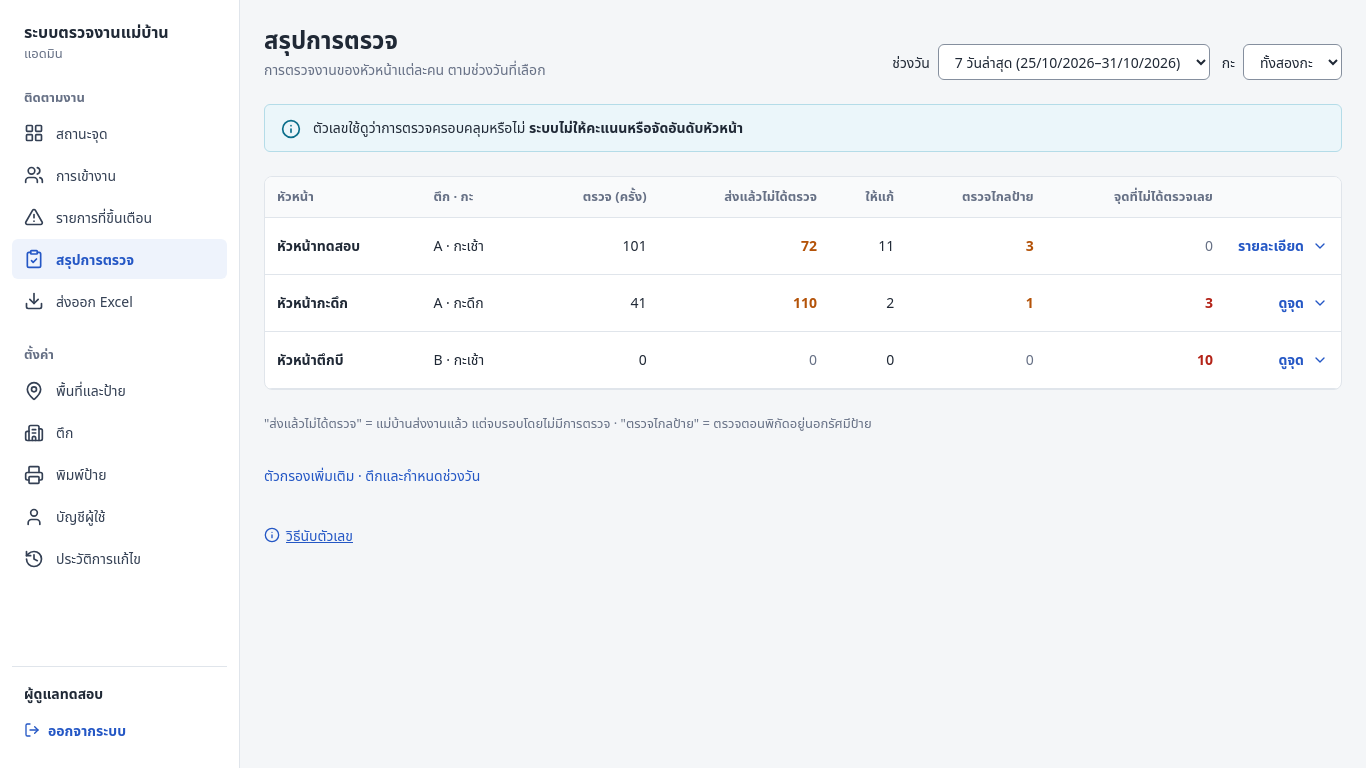
InspectionSummaryPage (D7, facility-0048 rule 5) › the compact preset select applies dates and keeps numeric ranges
The image size is (1366, 768).
Expected: the column heading "หัวหน้ากะดึก" is shown, [265,274,422,331]
Select "วันนี้" in the dropdown labelled "ช่วงวัน" at (1074, 62), box [938,44,1210,80]
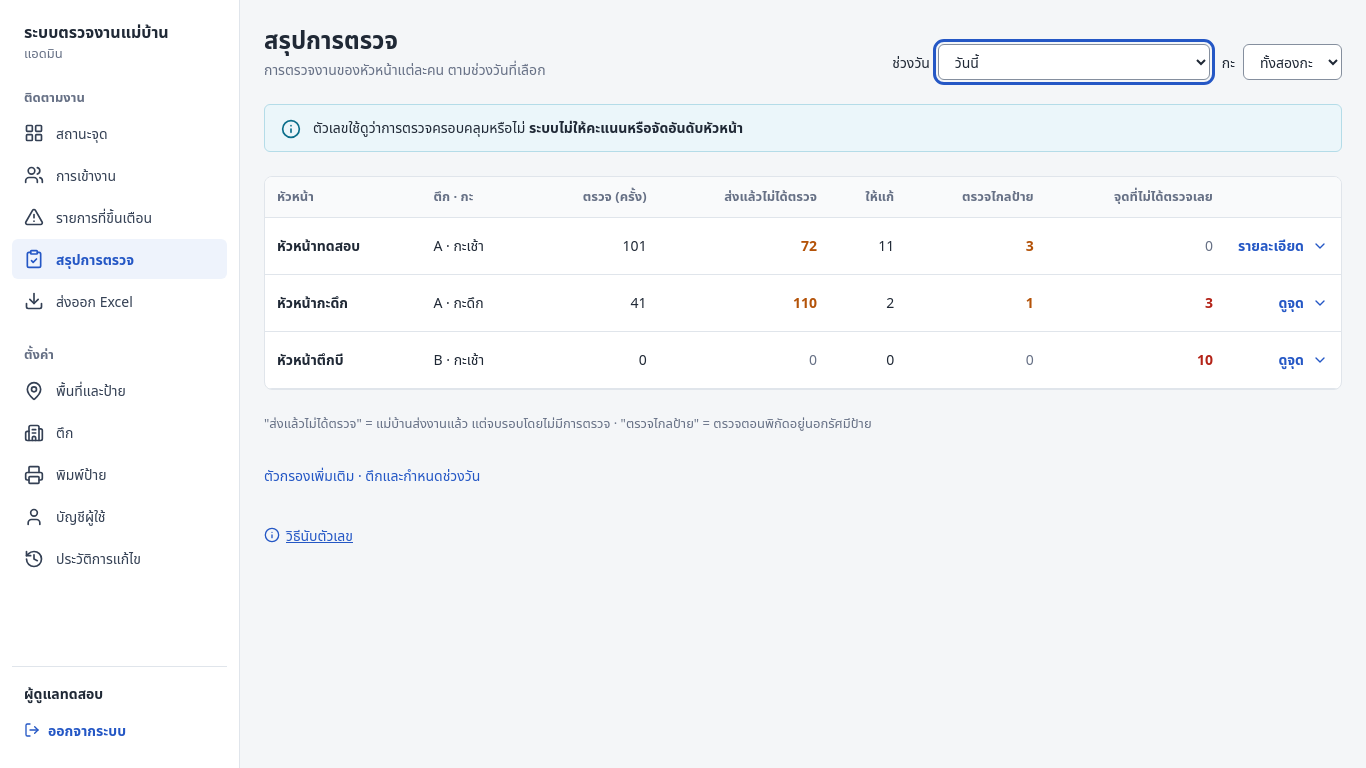
Select "เดือนนี้" in the dropdown labelled "ช่วงวัน" at (1074, 62), box [938,44,1210,80]
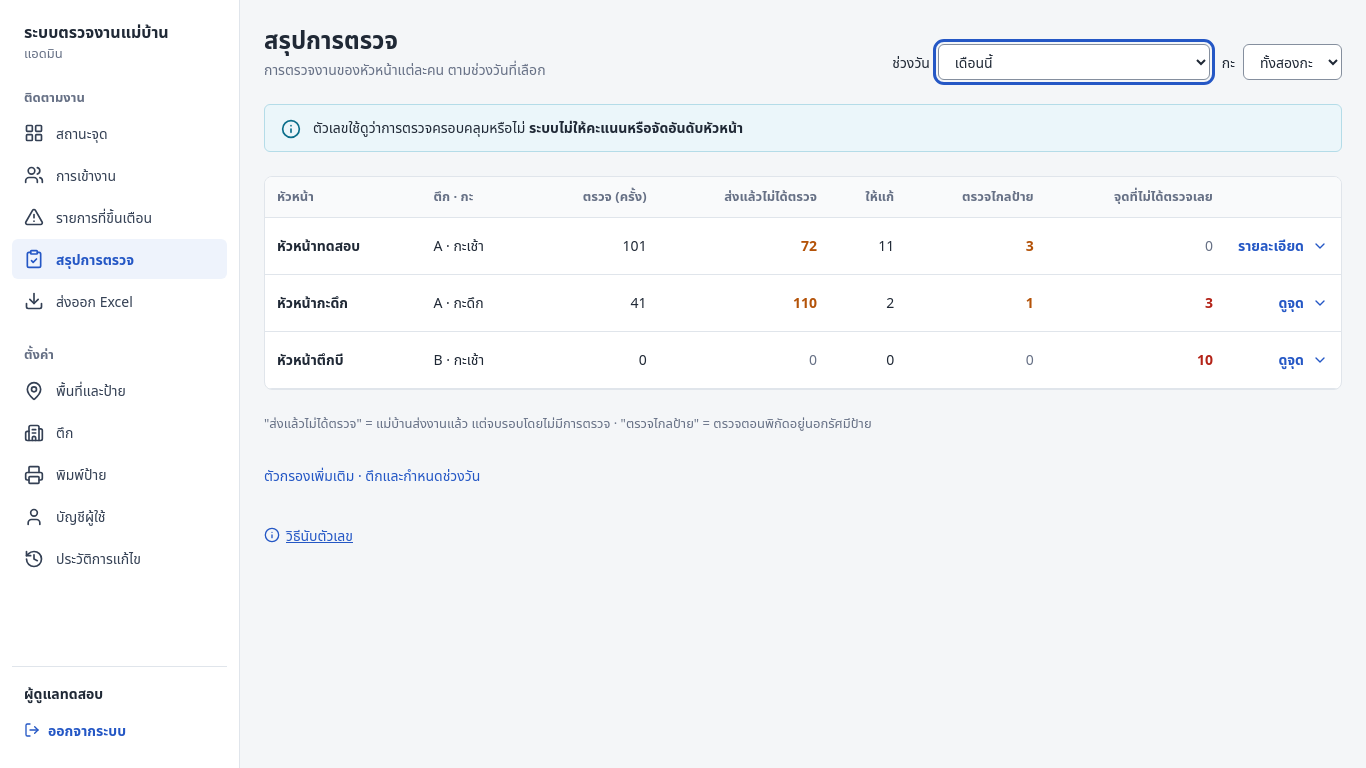
Select "กำหนดเอง" in the dropdown labelled "ช่วงวัน" at (1074, 62), box [938,44,1210,80]
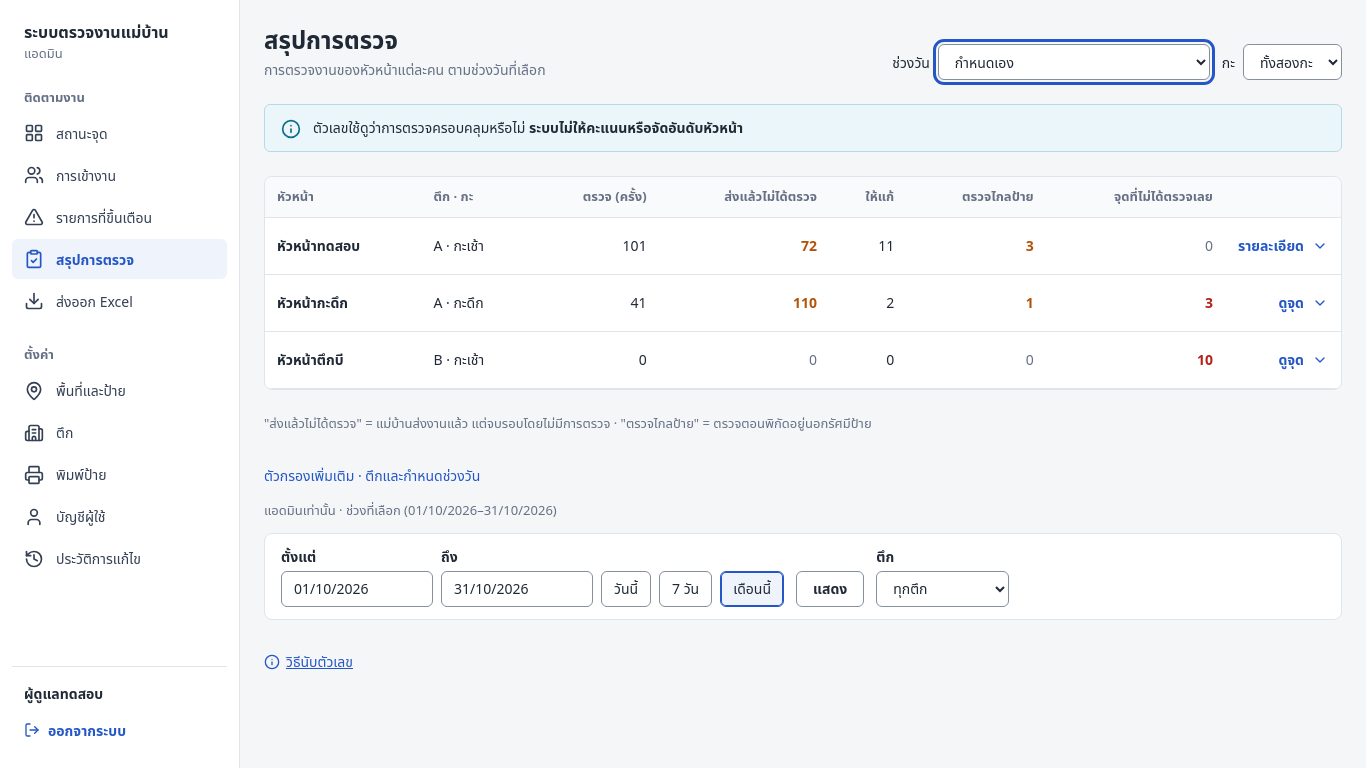
Now the field labelled "ถึง" is shown, box [441,571,593,607]
Now the field labelled "ตั้งแต่" holds "01/10/2026", box [281,571,433,607]
